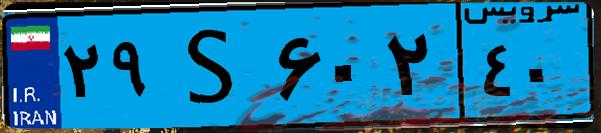0: (330, 28, 385, 110), (525, 38, 570, 115)
2: (385, 28, 445, 110), (57, 26, 110, 100)
4: (475, 38, 525, 113)
6: (270, 28, 330, 110)
9: (110, 28, 158, 98)
S: (158, 12, 270, 120)
